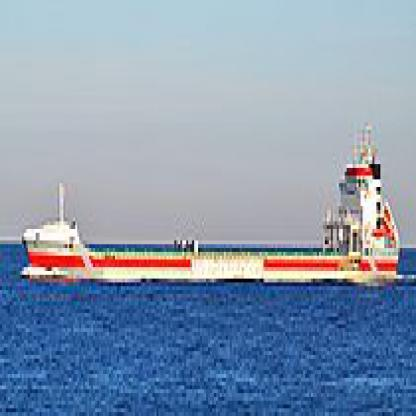Container Ship: (18, 120, 406, 285)
